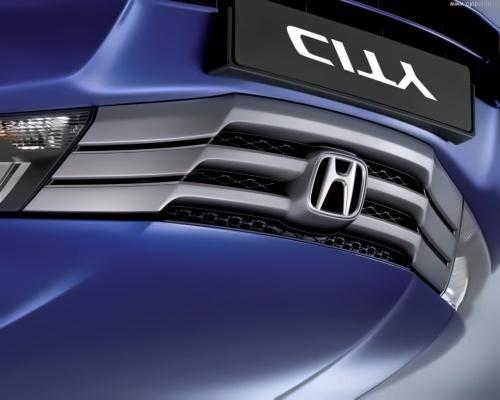Car hood: (0, 205, 477, 400)
Front bumper: (0, 0, 499, 280)
Headlight - -L-: (0, 96, 102, 226)
Headlight - -R-: (435, 181, 500, 345)
